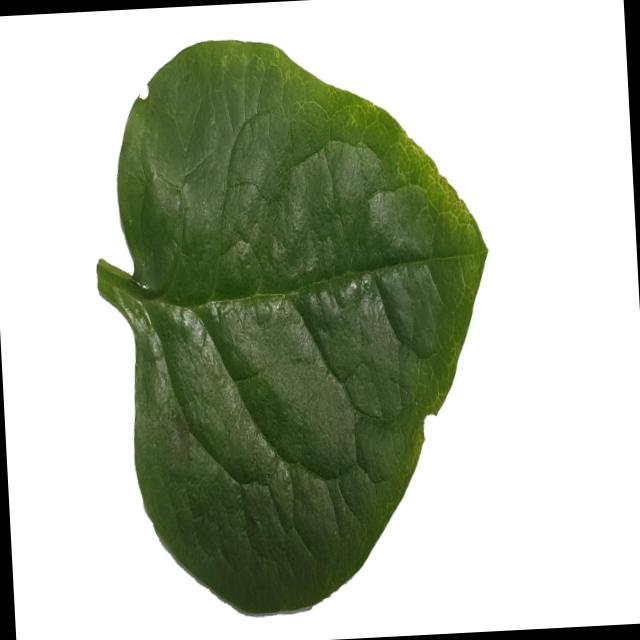Medicinal-Basale: (84, 24, 510, 622)
